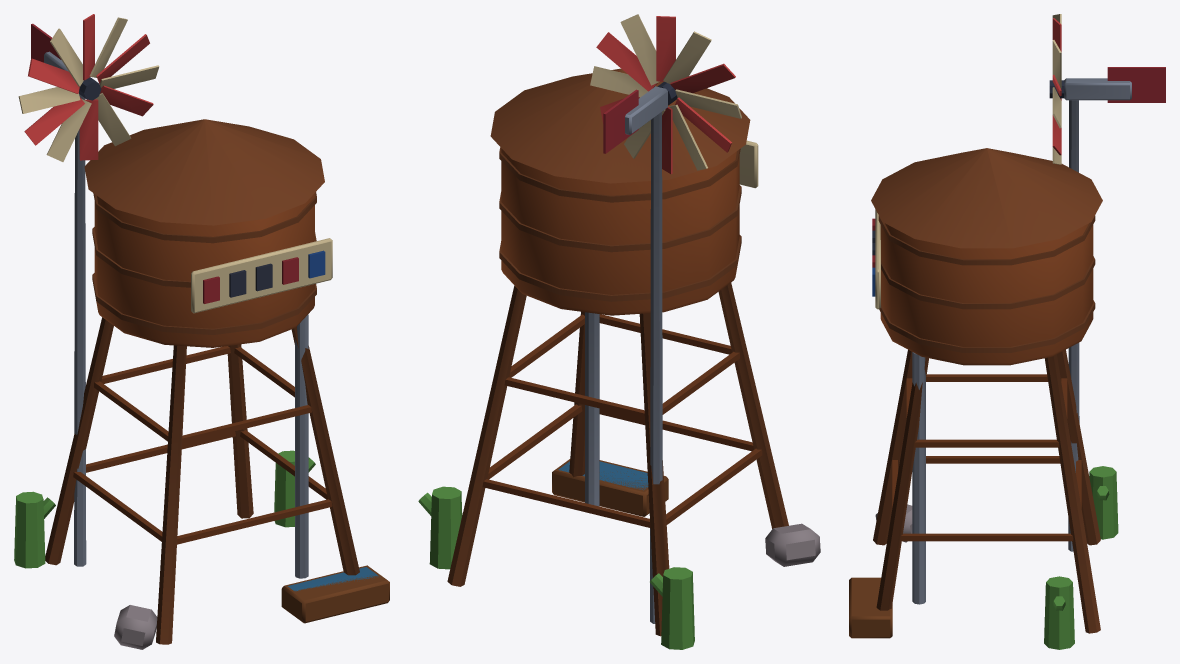
The model's file is lm_staub.glb.
3 views of the same model, side by side, from view 1: azimuth 30°, elevation 25°; view 2: azimuth 150°, elevation 25°; view 3: azimuth 270°, elevation 25° (orthographic). The views are drawn at different scales.
Visible parts, largest first — view 1: body, spin_wheel; view 2: body, spin_wheel; view 3: body, spin_wheel.
Boxes of the visible parts, x1,y1,x2,y2 form: body: (14, 23, 389, 649); spin_wheel: (18, 14, 159, 161); body: (418, 68, 820, 649); spin_wheel: (590, 14, 741, 173); body: (849, 67, 1165, 649); spin_wheel: (1049, 14, 1064, 164).
Bounding box in the file's own units: 6.71 × 12.13 × 6.55.
